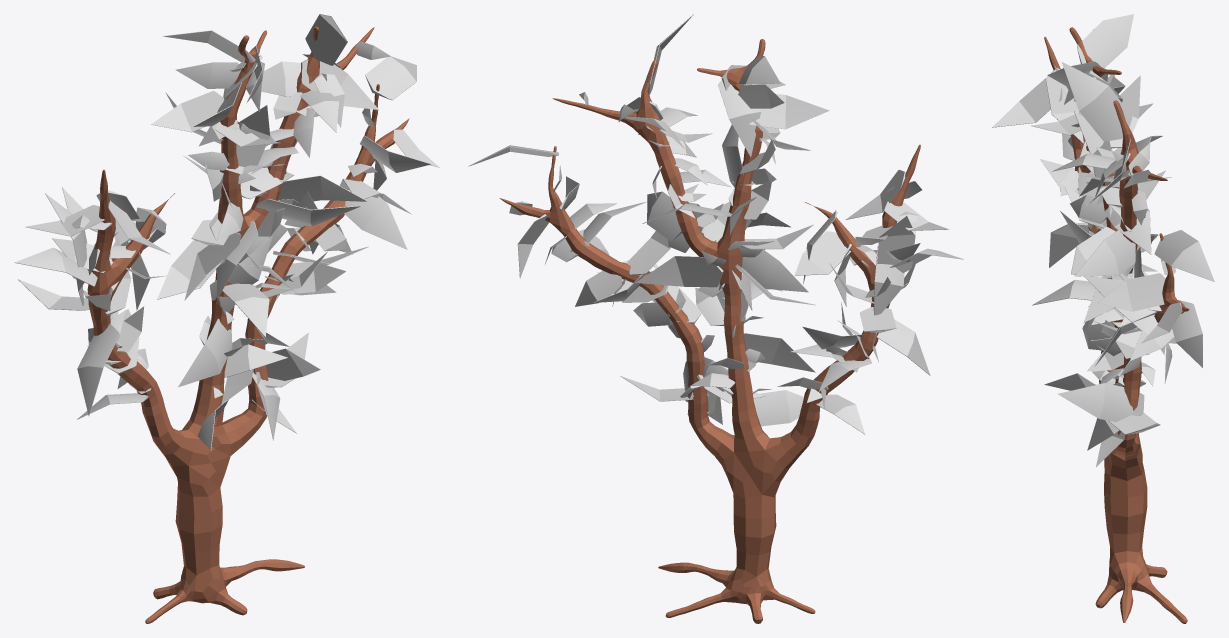
File: Tree3.fbx
3 views of the same model, side by side, from view 1: azimuth 30°, elevation 25°; view 2: azimuth 150°, elevation 25°; view 3: azimuth 270°, elevation 25° (orthographic). The views are drawn at different scales.
Parts seen in each view (by area): view 1: Tree3_Leaves, Tree3; view 2: Tree3_Leaves, Tree3; view 3: Tree3_Leaves, Tree3.
Boxes of the visible parts, x1,y1,x2,y2 form: Tree3_Leaves: (14, 14, 439, 449); Tree3: (87, 26, 409, 623); Tree3_Leaves: (468, 14, 963, 434); Tree3: (499, 39, 920, 623); Tree3_Leaves: (992, 14, 1214, 466); Tree3: (1044, 27, 1189, 623).
Bounding box in the file's own units: 253 × 308 × 107.
